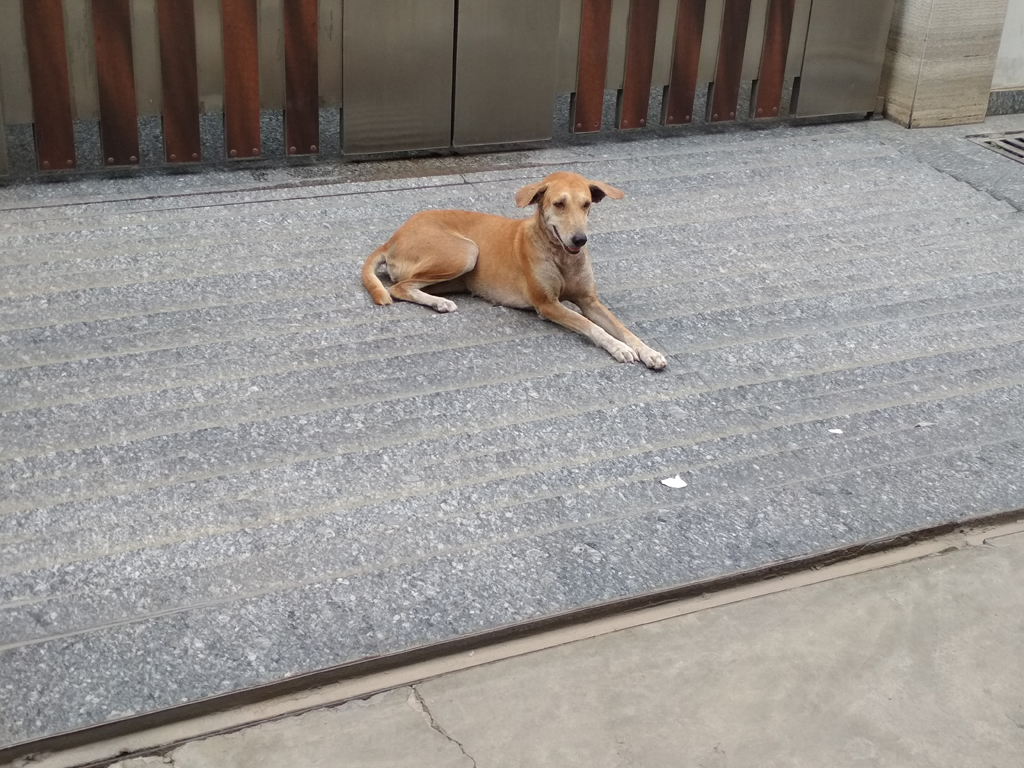dog: (360, 169, 666, 371)
